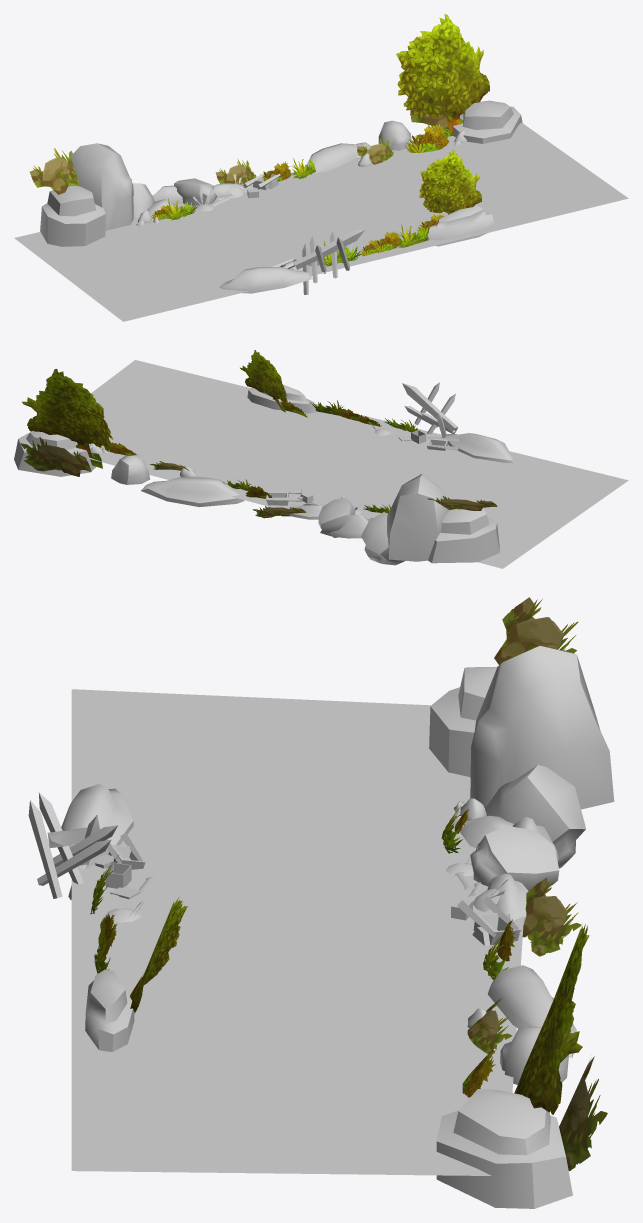
Rendered from zhanchang03.FBX.
3 renders of one model, top to bottom at view 1: azimuth 30°, elevation 25°; view 2: azimuth 150°, elevation 25°; view 3: azimuth 270°, elevation 25°, orthographic. The views are drawn at different scales.
Parts seen in each view (by area): view 1: a, b; view 2: a, b; view 3: a, b.
Boxes of the visible parts, <box> form: a: <box>14,100,628,321</box>; b: <box>29,14,489,266</box>; a: <box>14,360,628,568</box>; b: <box>21,350,497,518</box>; a: <box>28,646,614,1208</box>; b: <box>90,597,607,1171</box>.
Bounding box in the file's own units: 30.65 × 15.57 × 7.85.
